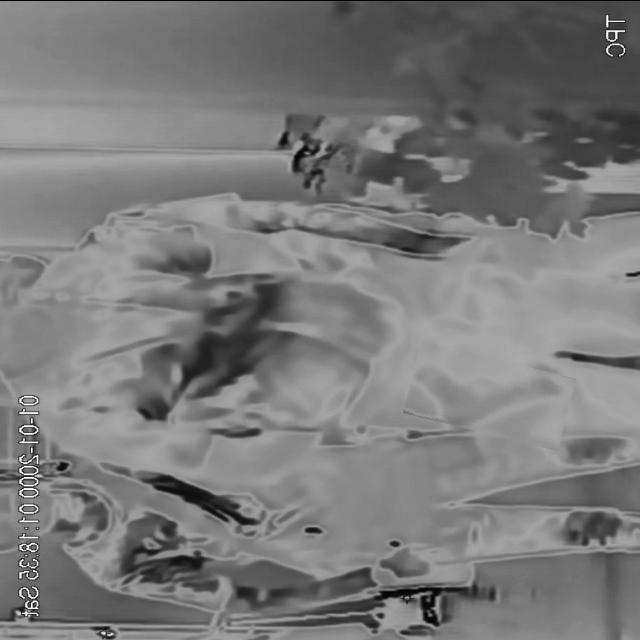Weapon: (406, 348, 574, 441)
